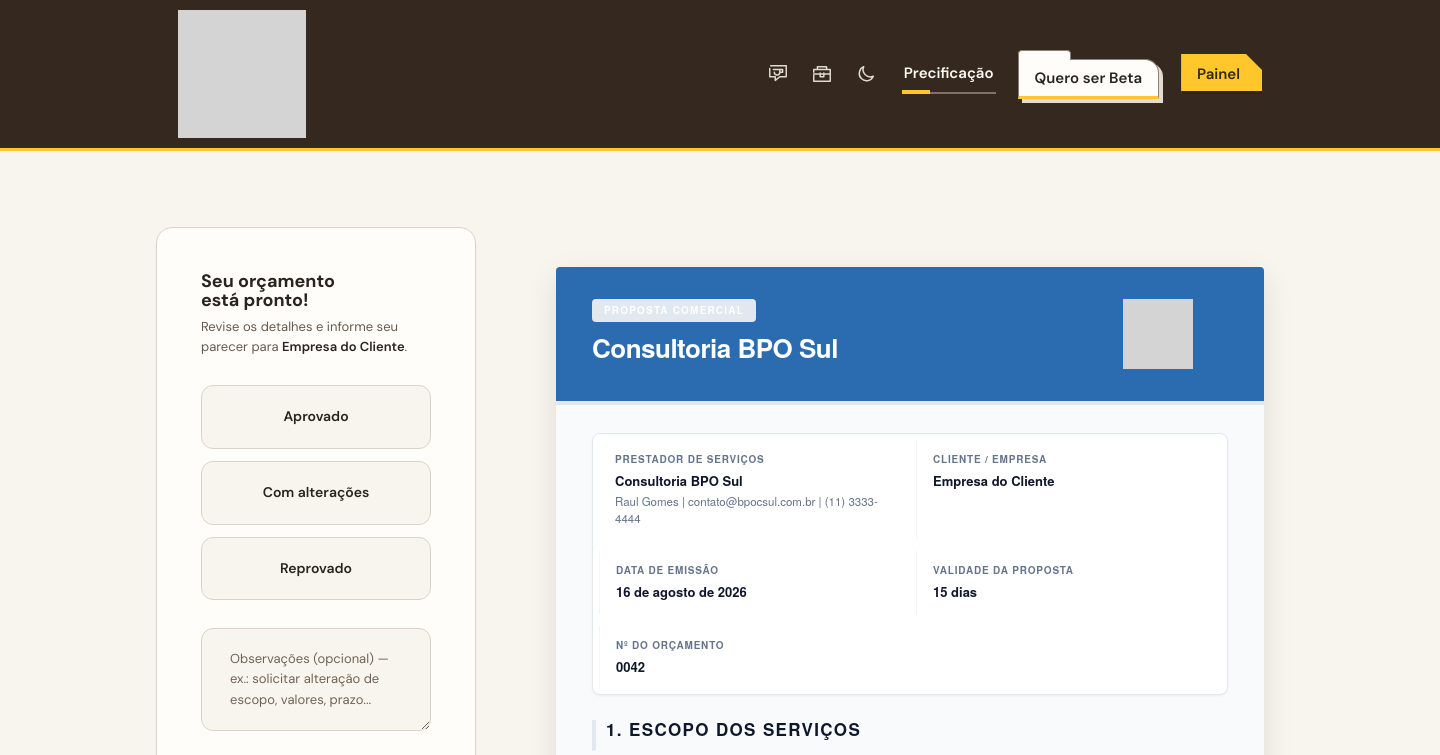
Test: PublicProposalPage › submits an Approved decision with observation
This screenshot has width=1440, height=755.
Expected: the heading "Seu orçamento está pronto!" is shown, [201,269,335,312]
Step 1. Click the button "Aprovado" → point(316, 417), box [201,385,431,449]
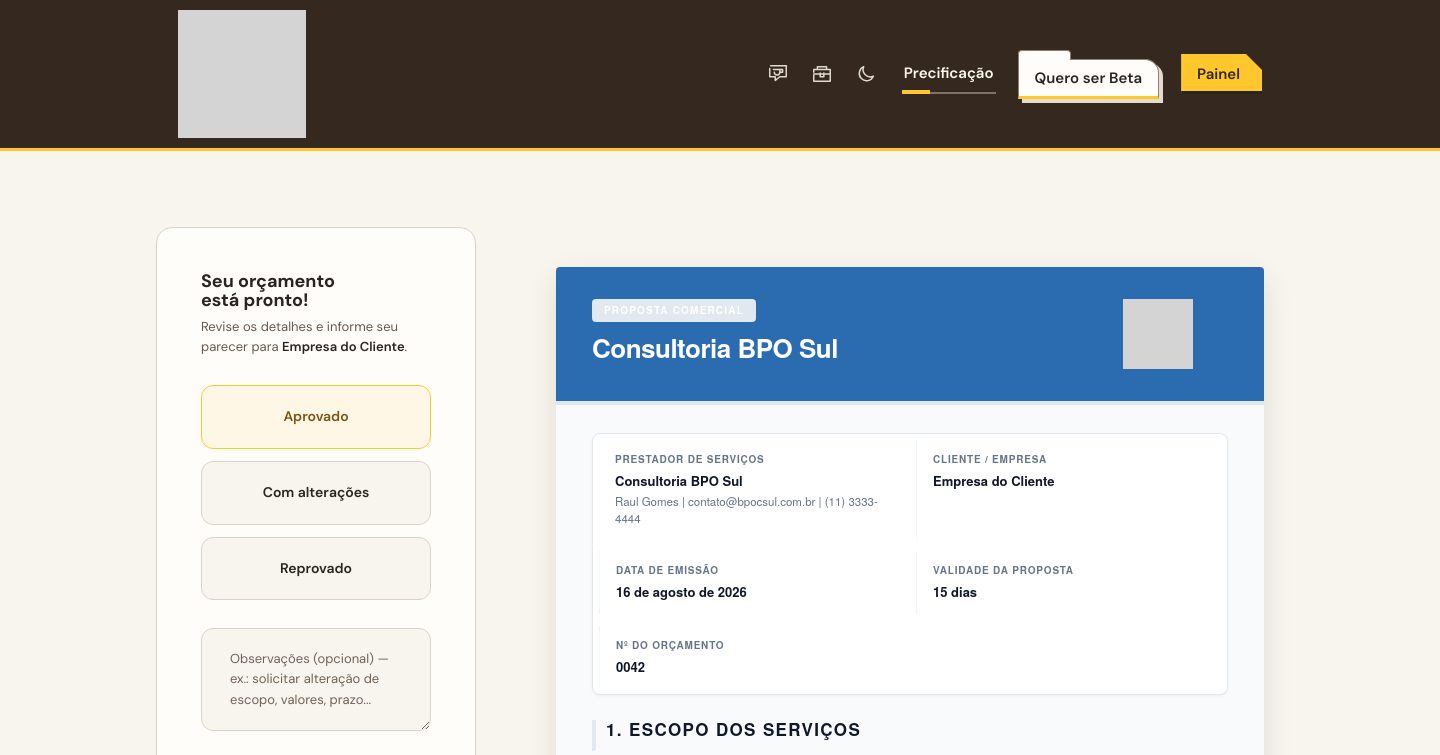
Step 2. Replace the text in the text box named "Observação sobre o orçamento" with "Pode prosseguir." → point(316, 679), box [201,628,431,731]
(page scrolled)
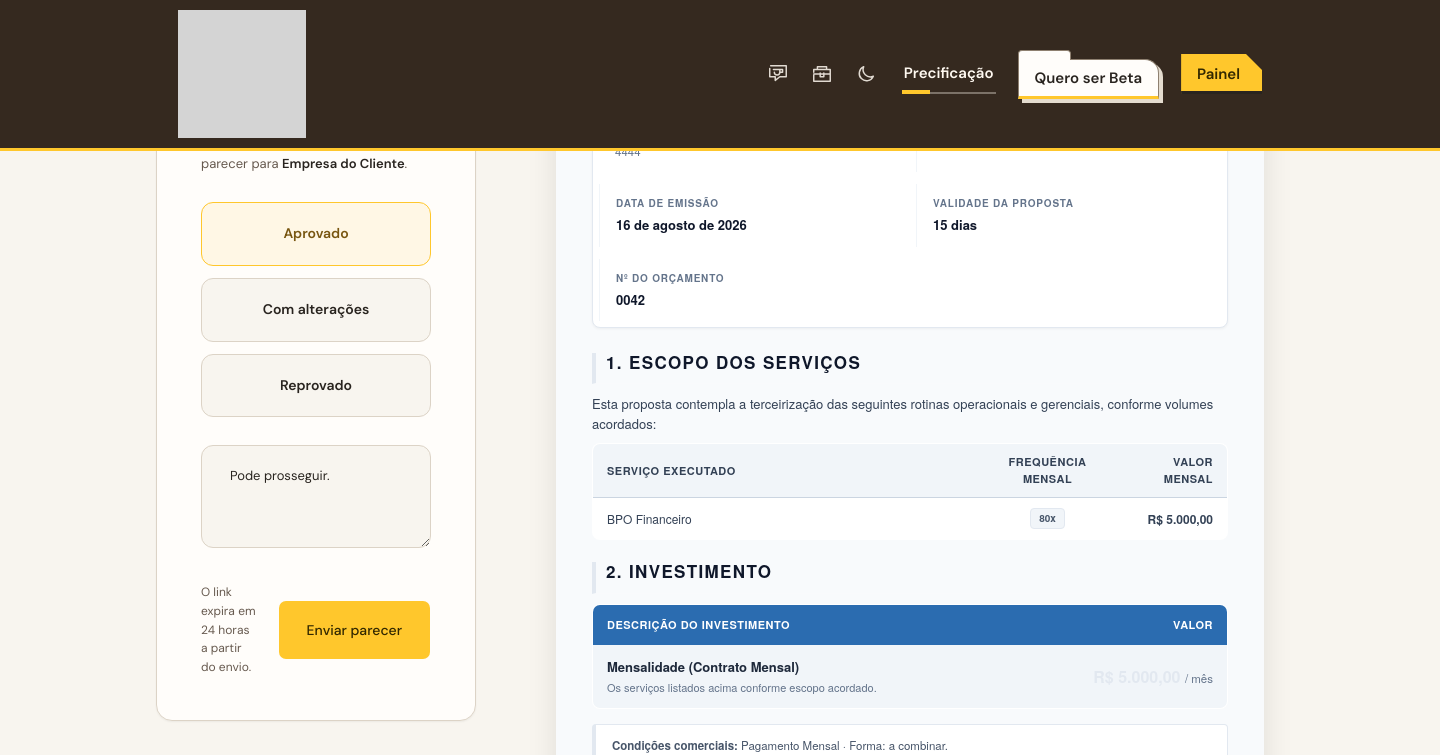
Step 3. Click the button "Enviar parecer" → point(354, 630), box [278,600,431,660]
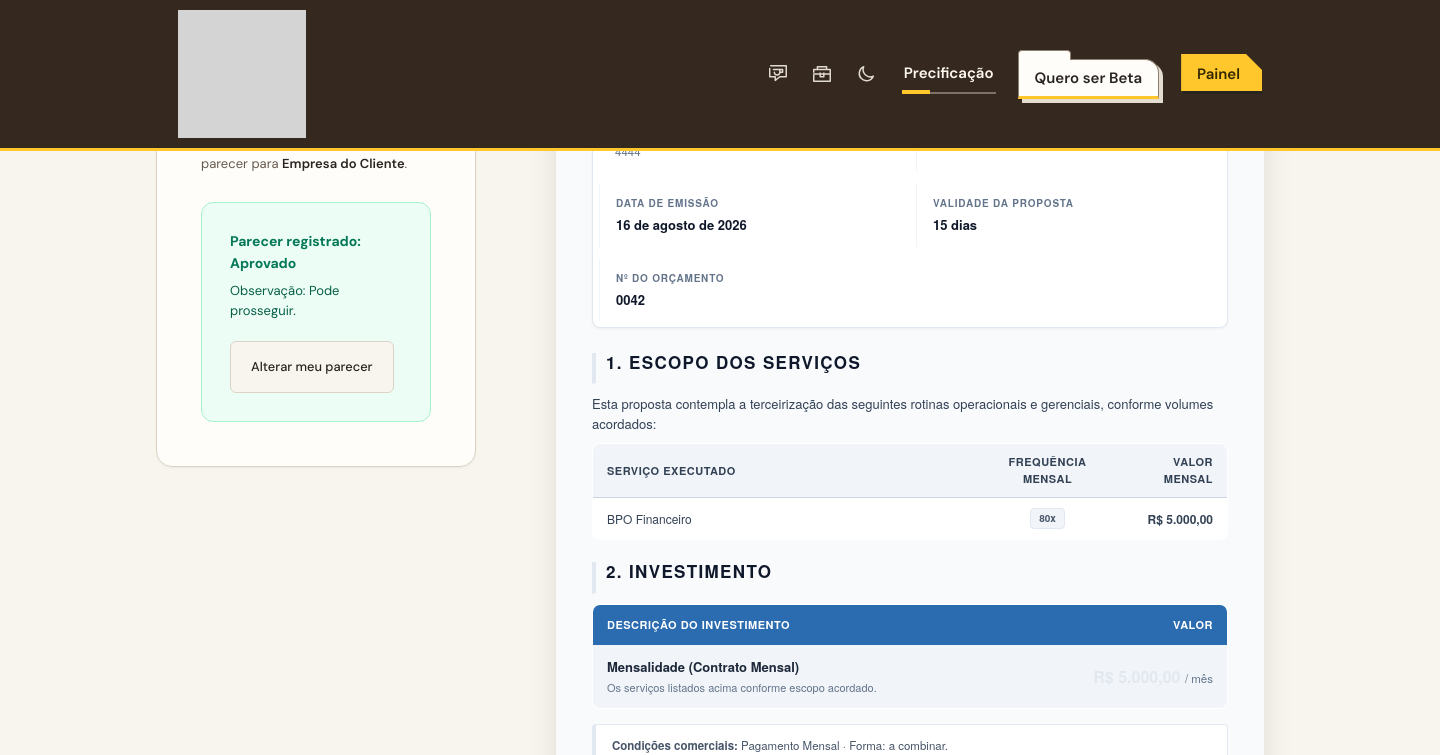
Now the text "Parecer registrado: Aprovado" is shown, box [230,232,361,272]
